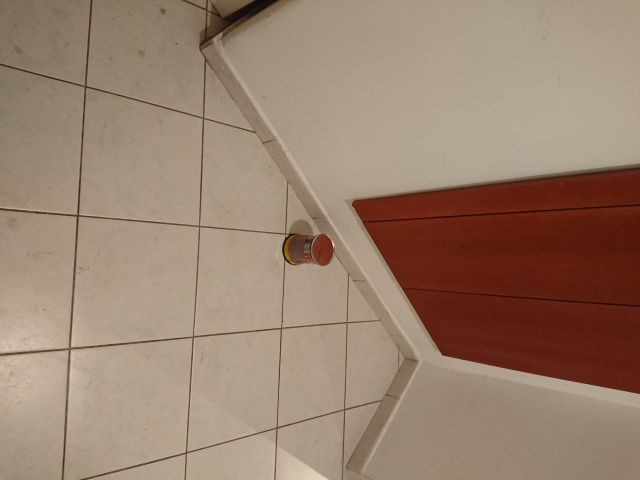Nescafe Classic 225g: (280, 231, 336, 269)
